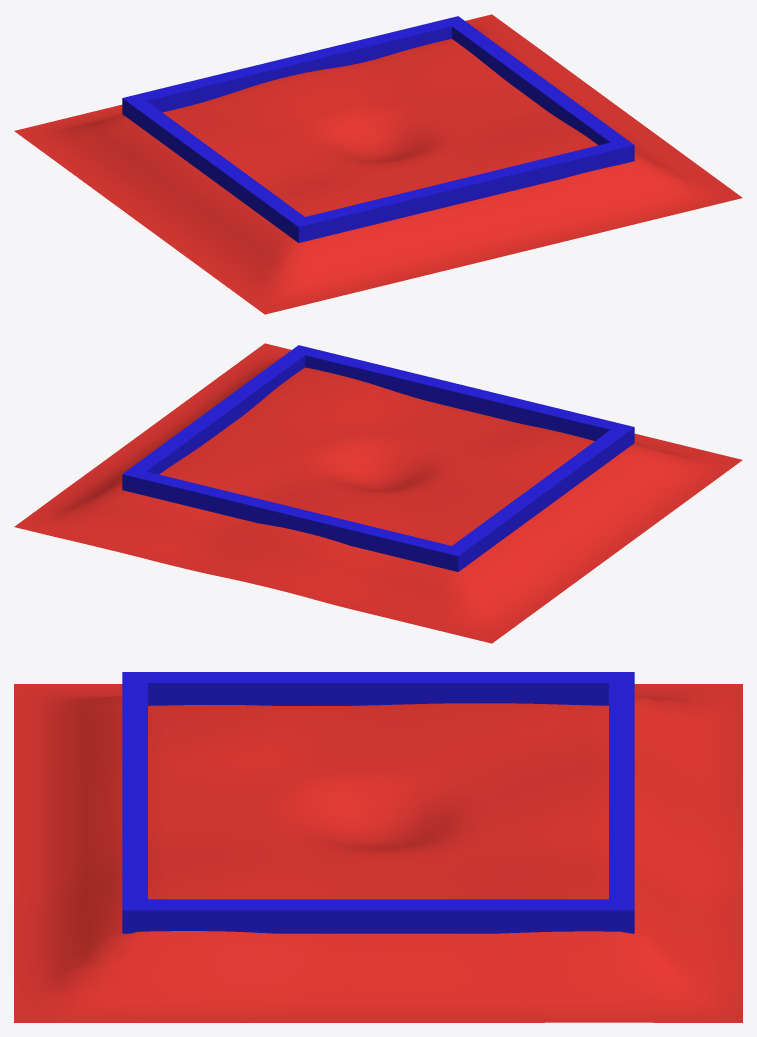
Rendered from cenario expressividade.fbx.
3 renders of one model, top to bottom at view 1: azimuth 30°, elevation 25°; view 2: azimuth 150°, elevation 25°; view 3: azimuth 270°, elevation 25°, orthographic. The views are drawn at different scales.
Parts seen in each view (by area): view 1: Areia, Cube; view 2: Areia, Cube; view 3: Areia, Cube.
Part boxes in pixels (x1,y1,x2,y2): Areia: (14,14,742,314); Cube: (122,16,634,242); Areia: (14,343,742,643); Cube: (122,345,634,571); Areia: (14,684,742,1022); Cube: (122,672,634,933).
Size of what is drawn, in the model's own units: 3130 by 268 by 2845.
